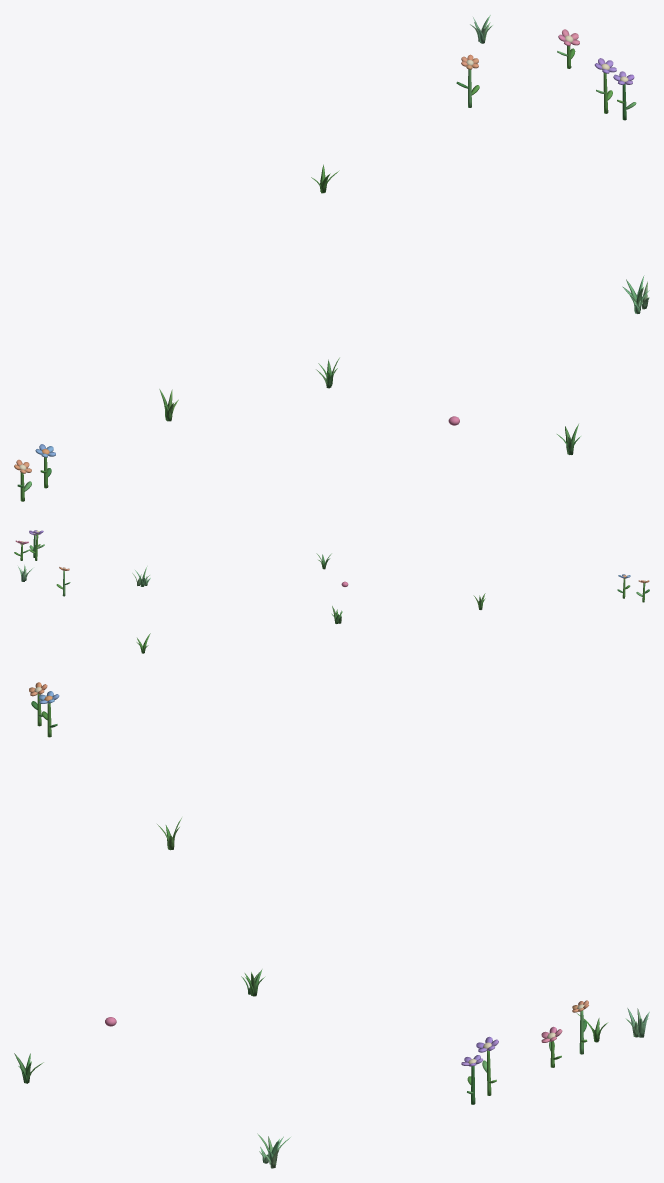
Rendered from W4_FloraRing_11_7.fbx.
3 views of the same model, one above another, from view 1: azimuth 30°, elevation 25°; view 2: azimuth 150°, elevation 25°; view 3: azimuth 270°, elevation 25° (orthographic). The views are drawn at different scales.
Parts seen in each view (by area): view 1: W4_FloraRing_11_7; view 2: W4_FloraRing_11_7; view 3: W4_FloraRing_11_7.
Part boxes in pixels (x1,y1,x2,y2): W4_FloraRing_11_7: [14, 15, 649, 501]; W4_FloraRing_11_7: [14, 530, 649, 653]; W4_FloraRing_11_7: [14, 682, 649, 1168].
Size of the model in its own units: 3.85 by 0.7724 by 2.47.
